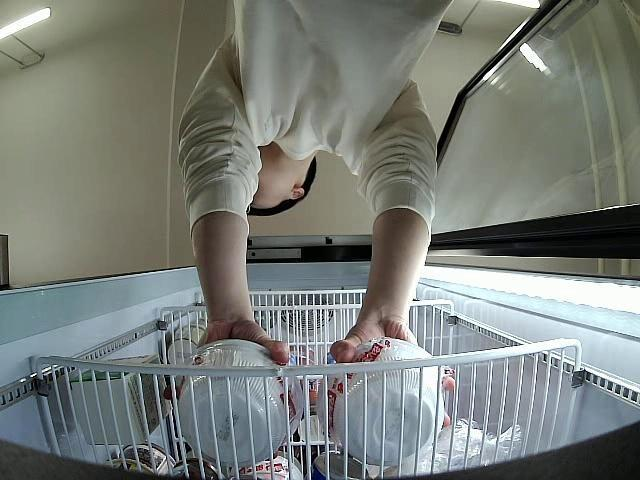09_yukGaeJang: (316, 337, 448, 464), (179, 340, 305, 463)
